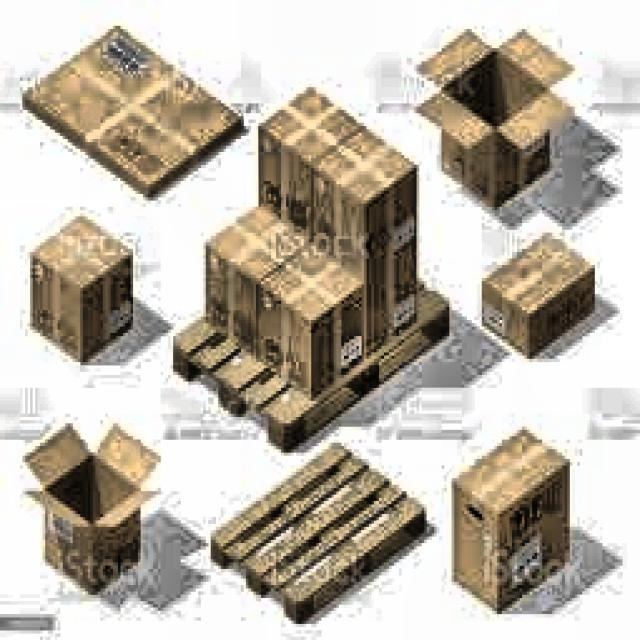cardboard: (254, 92, 418, 358), (202, 440, 428, 628), (21, 21, 240, 198), (204, 208, 362, 400), (414, 27, 576, 210), (21, 418, 160, 593), (452, 425, 568, 613), (27, 212, 136, 366), (481, 231, 593, 359), (280, 123, 348, 240), (495, 29, 574, 94)
